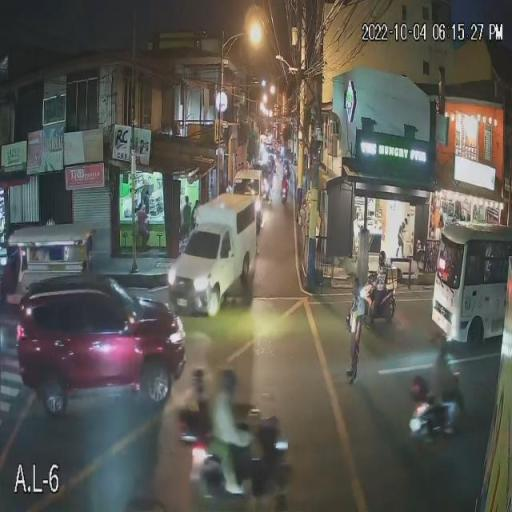helmet: (379, 250, 386, 263)
motorcycle: (178, 408, 290, 511), (406, 374, 464, 446), (360, 270, 398, 324), (280, 184, 290, 206)
rider: (206, 369, 256, 496), (427, 340, 461, 435), (366, 252, 389, 310), (280, 170, 290, 193)
